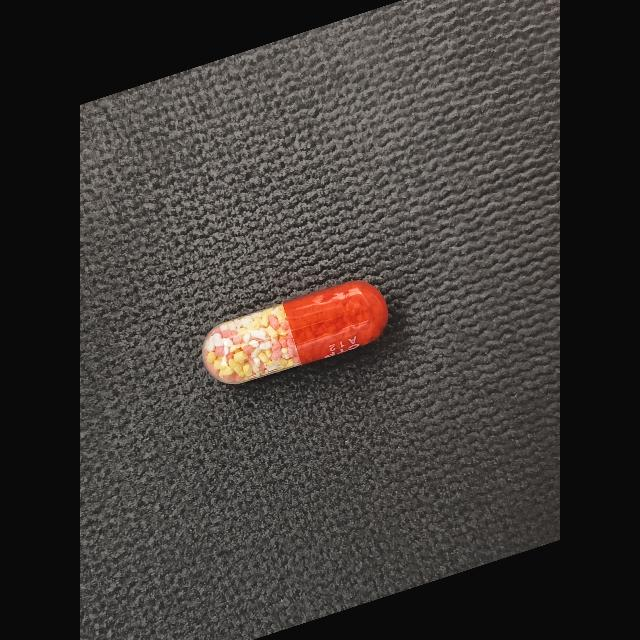Intact Capsule: (201, 281, 388, 384)
